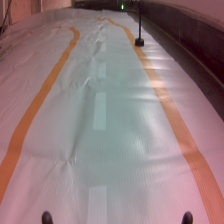green: (120, 1, 146, 49)
